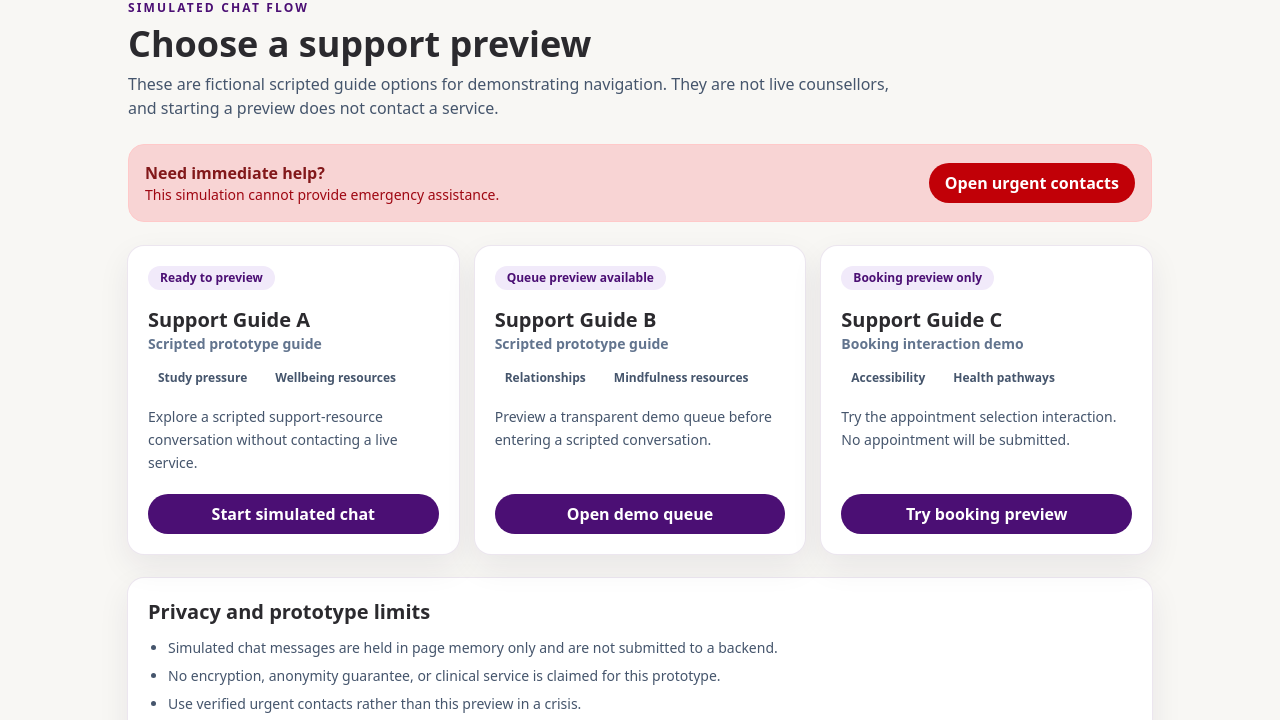
Scenario: ProfessionalSelectionPage › opens accessible verified urgent contacts
This screenshot has width=1280, height=720.
Click the button "Open urgent contacts": [1032, 183] box top-left (929, 163), bottom-right (1135, 203)
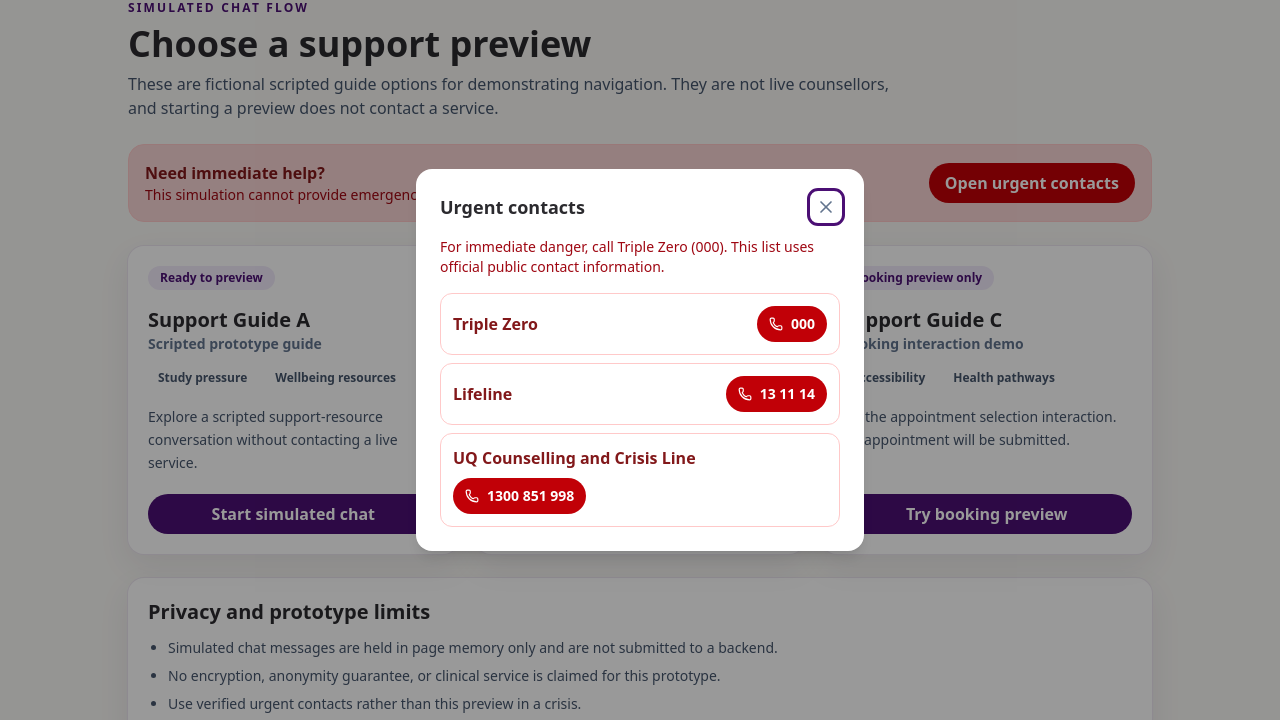
Check: the dialog "Urgent contacts" is shown, box top-left (416, 169), bottom-right (864, 551)
